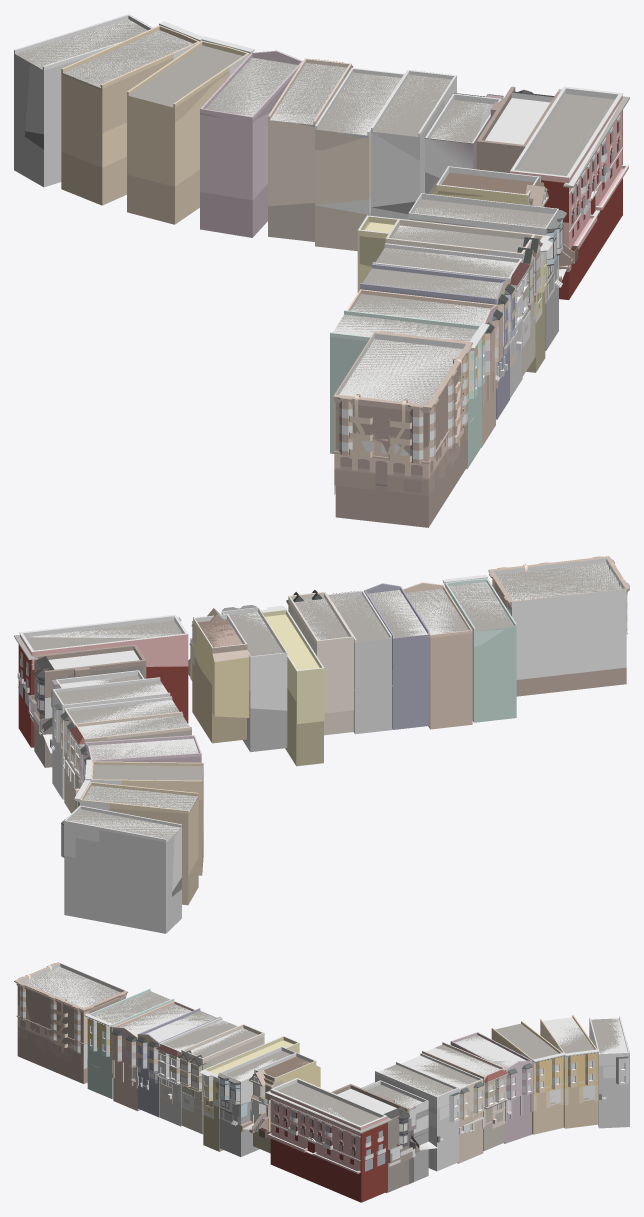
Rendered from city_block9.dae.
The picture shows the model from 3 angles, top to bottom: view 1: azimuth 30°, elevation 25°; view 2: azimuth 150°, elevation 25°; view 3: azimuth 270°, elevation 25°; orthographic projection. The views are drawn at different scales.
Parts seen in each view (by area): view 1: city_block9_a3000, city_block9_a2000; view 2: city_block9_a2000, city_block9_a3000; view 3: city_block9_a3000, city_block9_a2000.
Part boxes in pixels (x1,y1,x2,y2): city_block9_a3000: (14, 14, 628, 495); city_block9_a2000: (14, 19, 629, 527); city_block9_a2000: (14, 563, 626, 933); city_block9_a3000: (17, 556, 629, 896); city_block9_a3000: (14, 962, 629, 1173); city_block9_a2000: (17, 967, 629, 1202).
Size of the model in its own units: 103 by 164 by 26.01.
